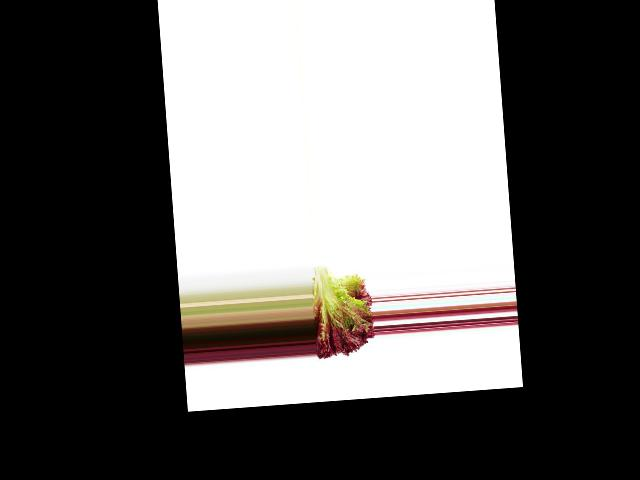lettuce: (309, 260, 375, 364)
